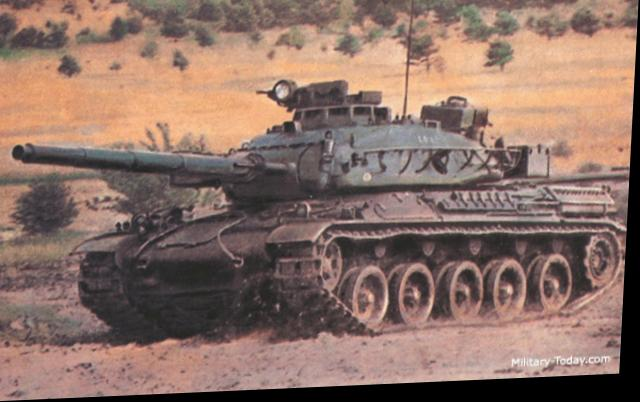tank: (83, 89, 632, 343)
